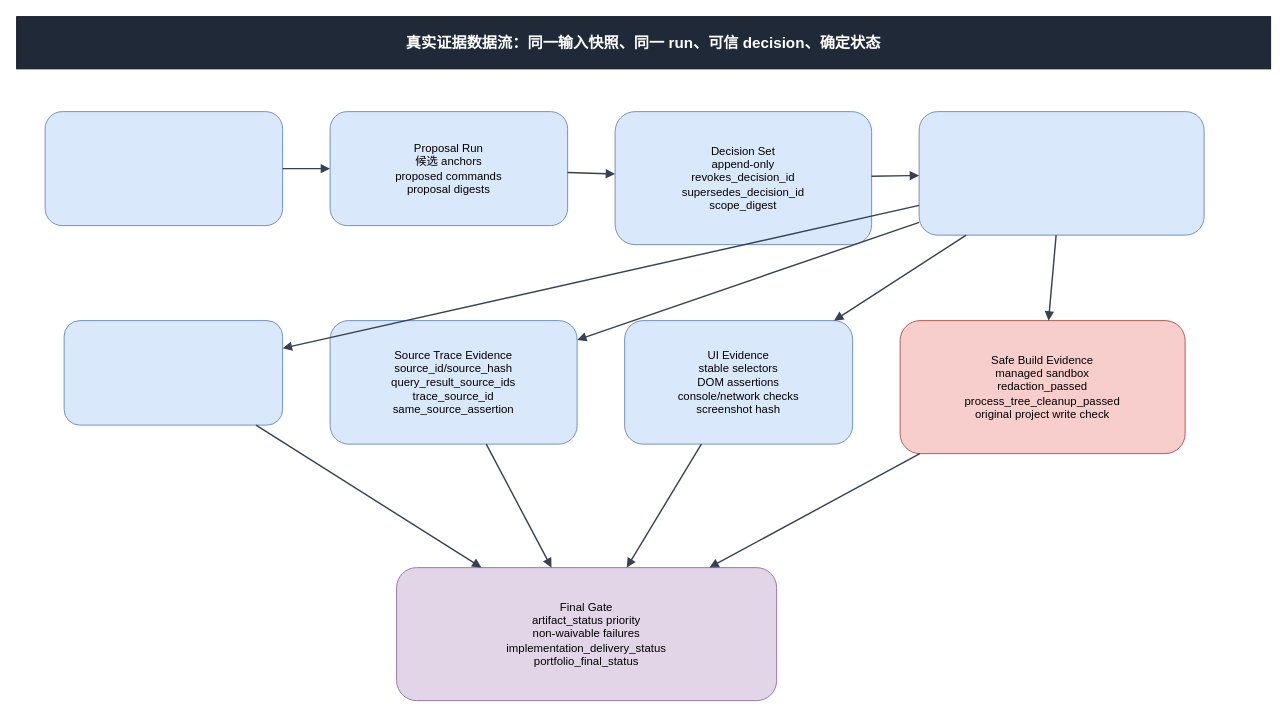
This 1287x717 diagram has some shape labels left out. Here are the shapes that lost their labels. From the top down, the centre of each, then its label:
At (x=163, y=168): "input_manifest.json root_fingerprint upstream artifact hashes document hashes".
At (x=1061, y=173): "Execution Run 引用 proposal_run_id + decision_set_id 校验 expiry/revocation/digest".
At (x=173, y=372): "OCR Evidence provider_steps[] page/slide hash anchor_hit".
